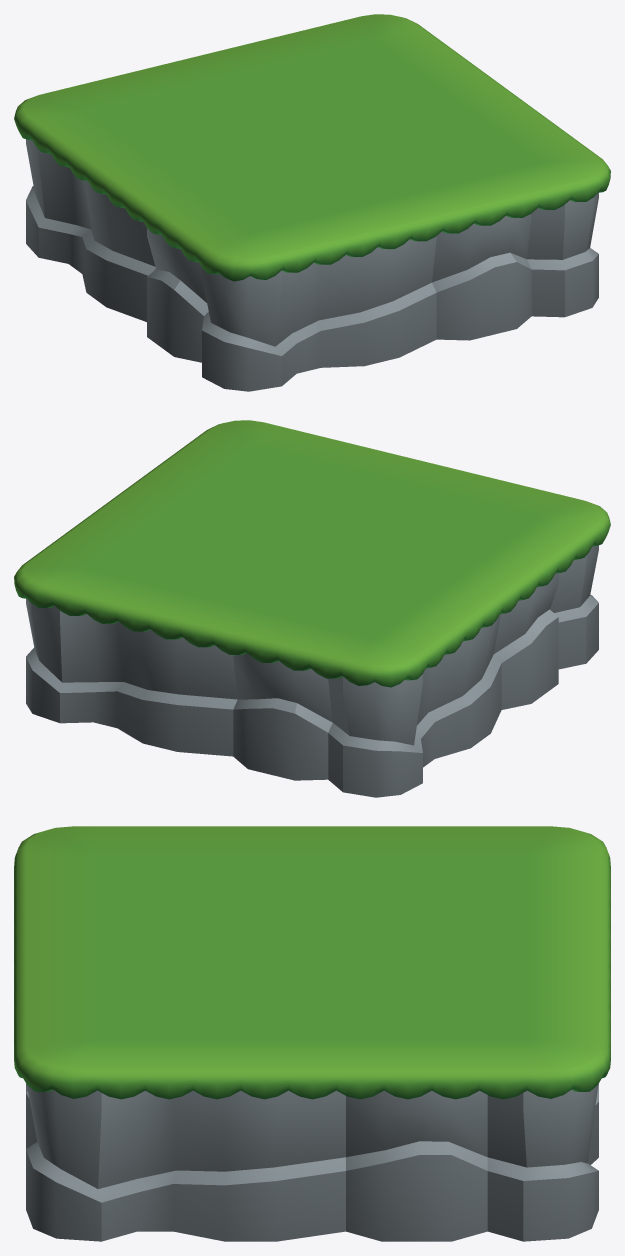
File: Hill_12x12x4_Color1.gltf
3 views of the same model, one above another, from view 1: azimuth 30°, elevation 25°; view 2: azimuth 150°, elevation 25°; view 3: azimuth 270°, elevation 25° (orthographic). The views are drawn at different scales.
Visible parts, largest first — view 1: Hill_12x12x4_Color1; view 2: Hill_12x12x4_Color1; view 3: Hill_12x12x4_Color1.
Boxes of the visible parts, x1,y1,x2,y2 form: Hill_12x12x4_Color1: [14, 14, 610, 391]; Hill_12x12x4_Color1: [14, 420, 610, 797]; Hill_12x12x4_Color1: [14, 826, 610, 1241].
Bounding box in the file's own units: 12.5 × 4 × 12.5.
Materials: 1 (1 with a texture image).
